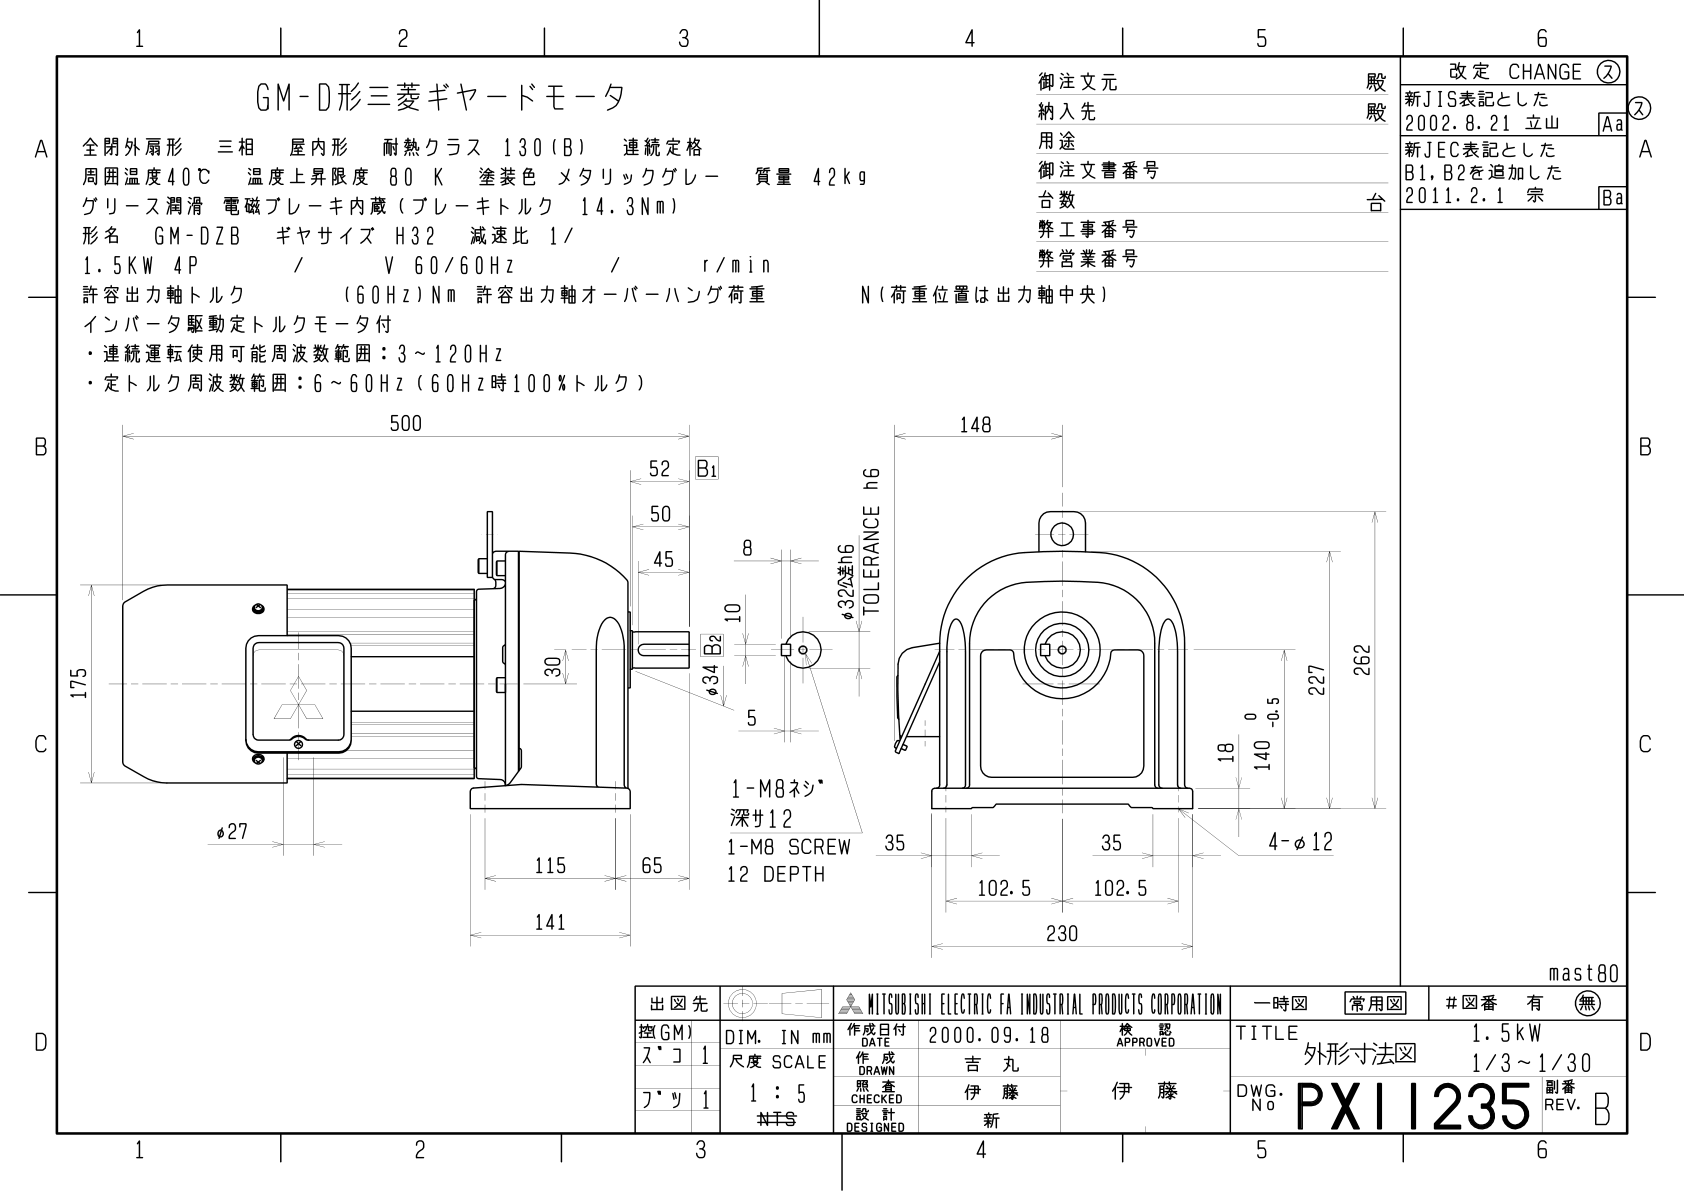GM_D_インバータ屋内_三相_脚: (8, 3, 1684, 1191)
